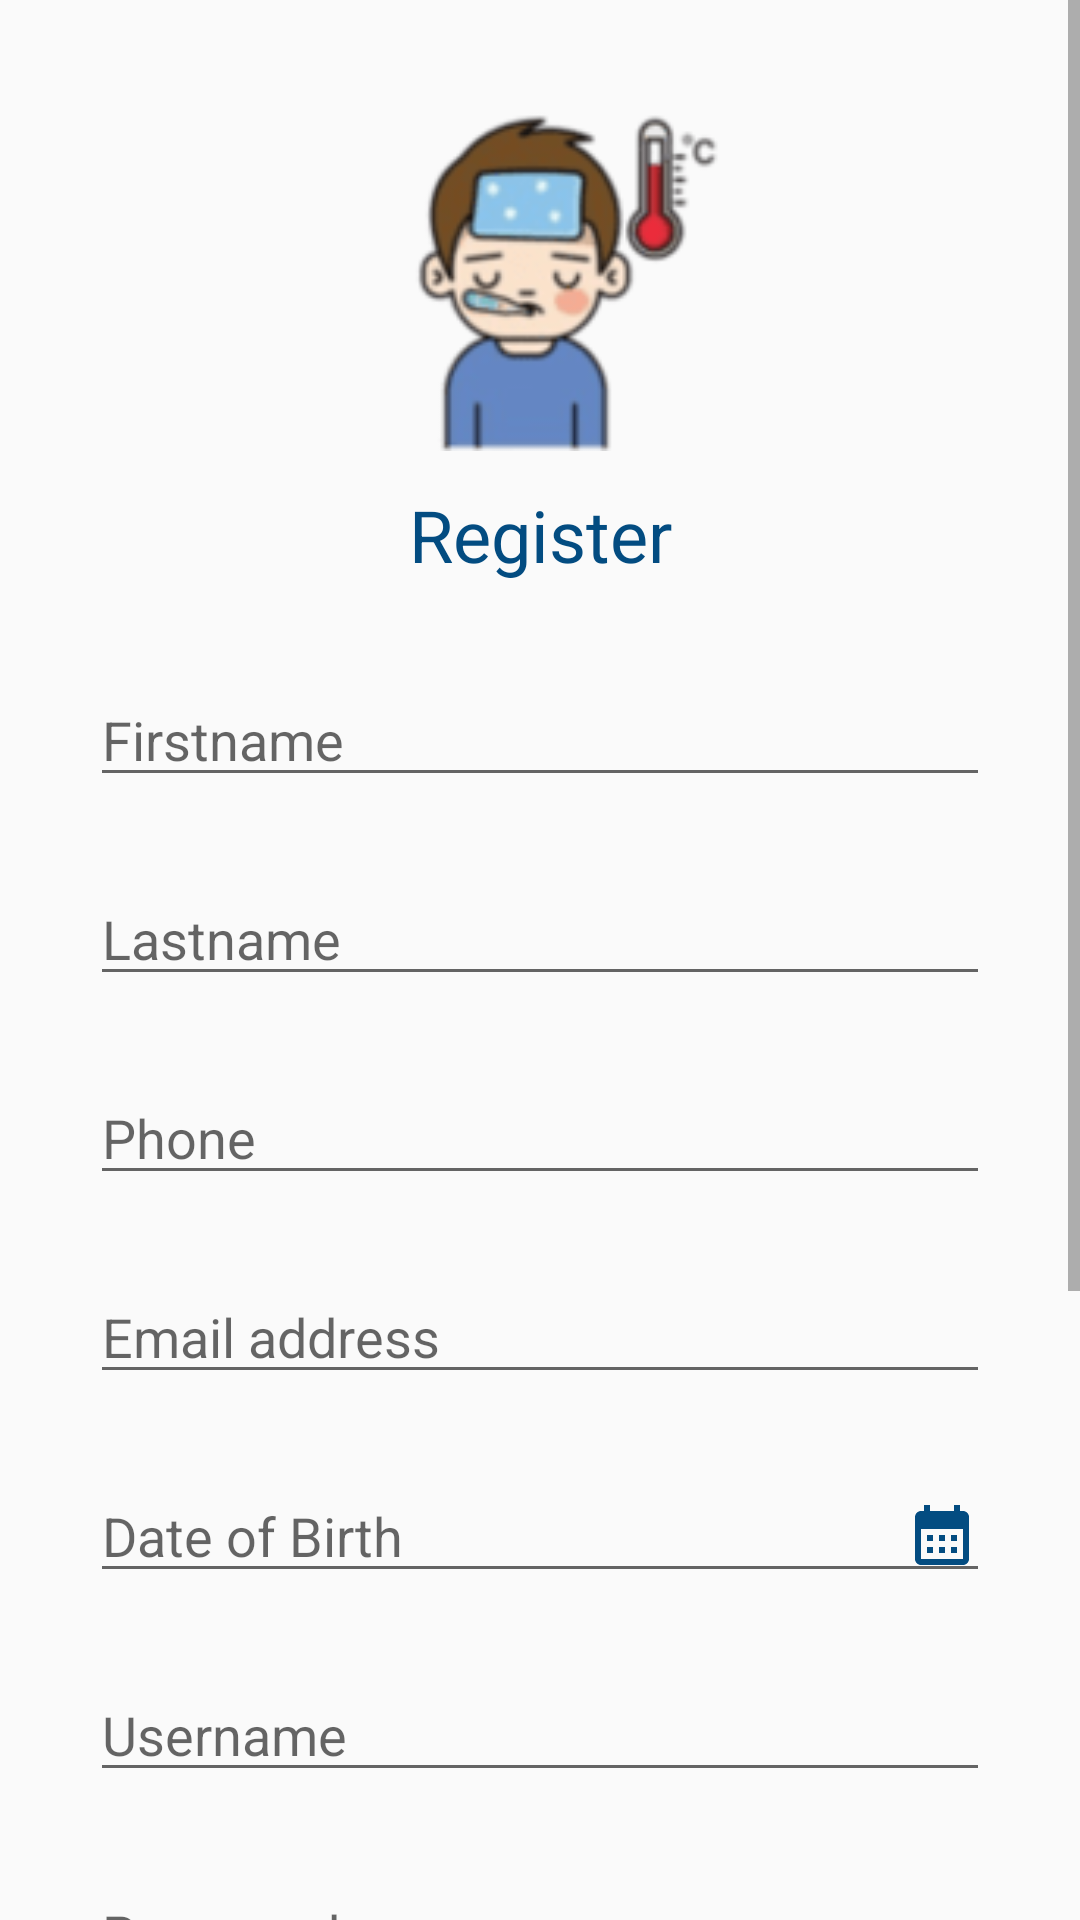

Named icons in this screenshot (1080x1920) and their bounding boxes, BBox(x1, y1, x2, y2):
patient: BBox(418, 116, 716, 451)
